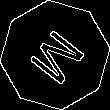M_SE: (21, 21, 89, 89)
